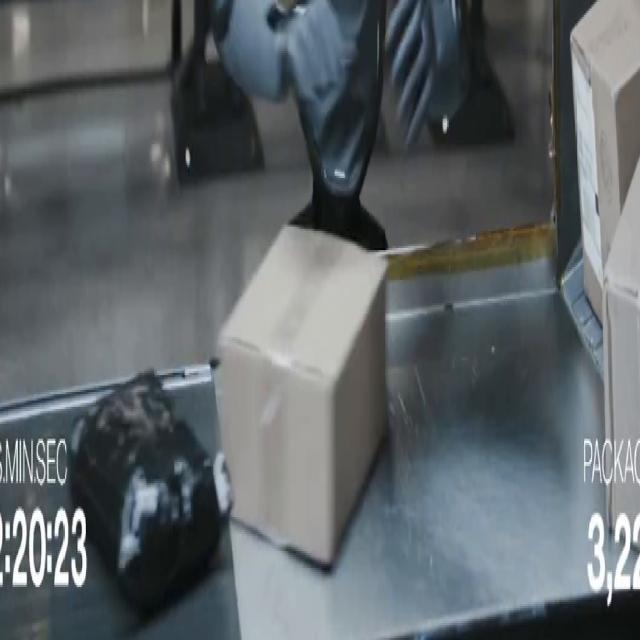package: (219, 227, 387, 567), (69, 373, 231, 612), (571, 0, 639, 322), (603, 166, 639, 527)
